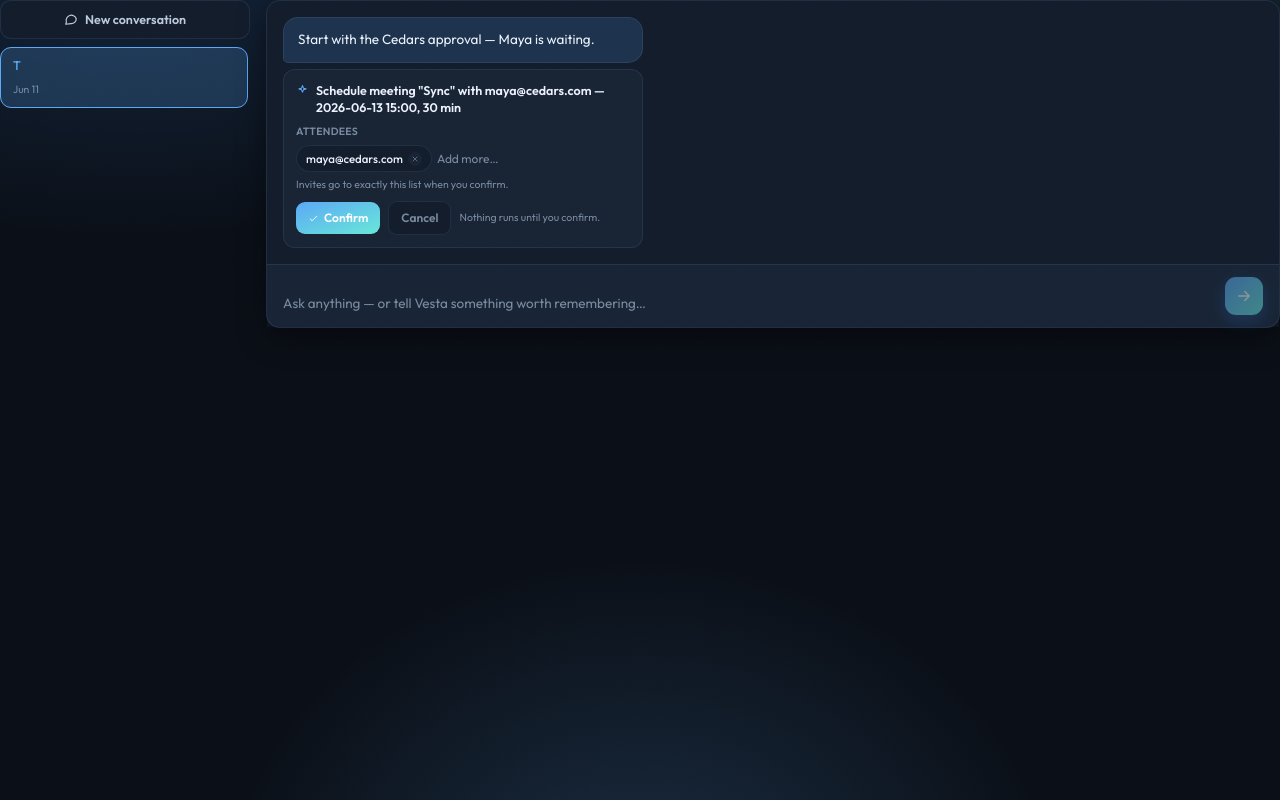
ChatView › a meeting card shows editable attendees, confirms with the edited list, and surfaces the join link
Expected: the text "maya@cedars.com" is shown, x1=296 y1=145 x2=432 y2=172
# Add another attendee by typing a full email + Enter.
In the field named "Add attendee": (533, 159) x1=437 y1=146 x2=630 y2=172, type "sam@northwind.com"
Then press Enter
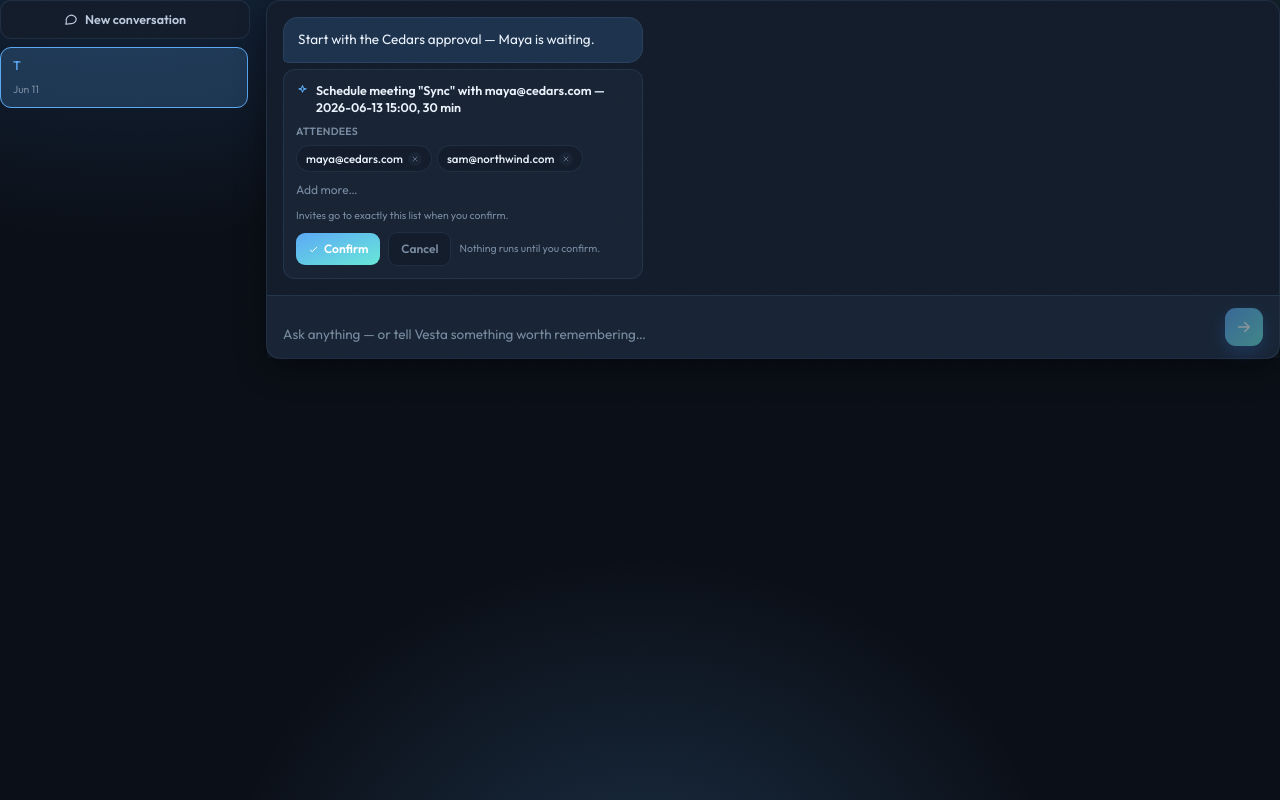
Now the text "sam@northwind.com" is shown, box x1=437 y1=145 x2=583 y2=172
Click the button "Confirm": (338, 249) x1=296 y1=233 x2=380 y2=265
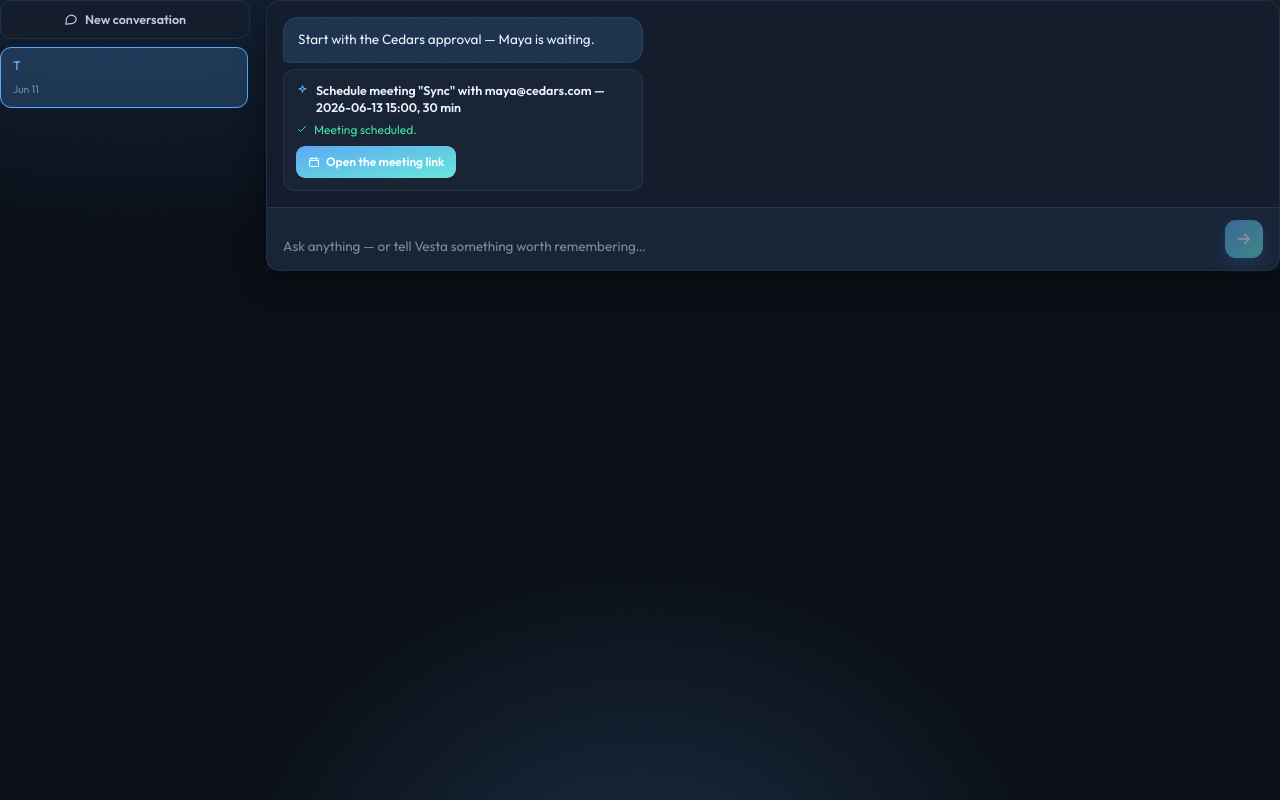
Now the text "Meeting scheduled." is shown, box x1=296 y1=122 x2=417 y2=137
